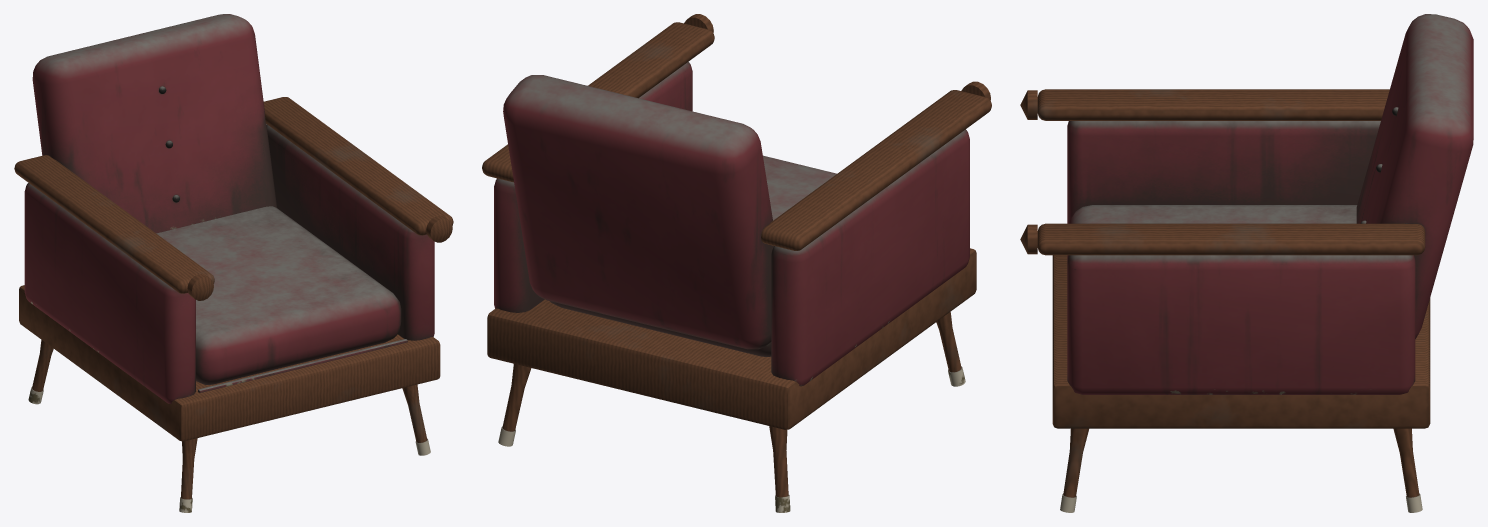
The model's file is SM_Armchair_Upholstered.fbx.
3 renders of one model, left to right at view 1: azimuth 30°, elevation 25°; view 2: azimuth 150°, elevation 25°; view 3: azimuth 270°, elevation 25°, orthographic. The views are drawn at different scales.
Visible parts, largest first — view 1: SM_Armchair_Upholstered; view 2: SM_Armchair_Upholstered; view 3: SM_Armchair_Upholstered.
Part boxes in pixels (x1,y1,x2,y2): SM_Armchair_Upholstered: (14, 14, 453, 512); SM_Armchair_Upholstered: (482, 14, 991, 512); SM_Armchair_Upholstered: (1020, 14, 1473, 512).
Size of the model in its own units: 0.74 by 0.8445 by 0.9126.
1 material, 1 textured.
